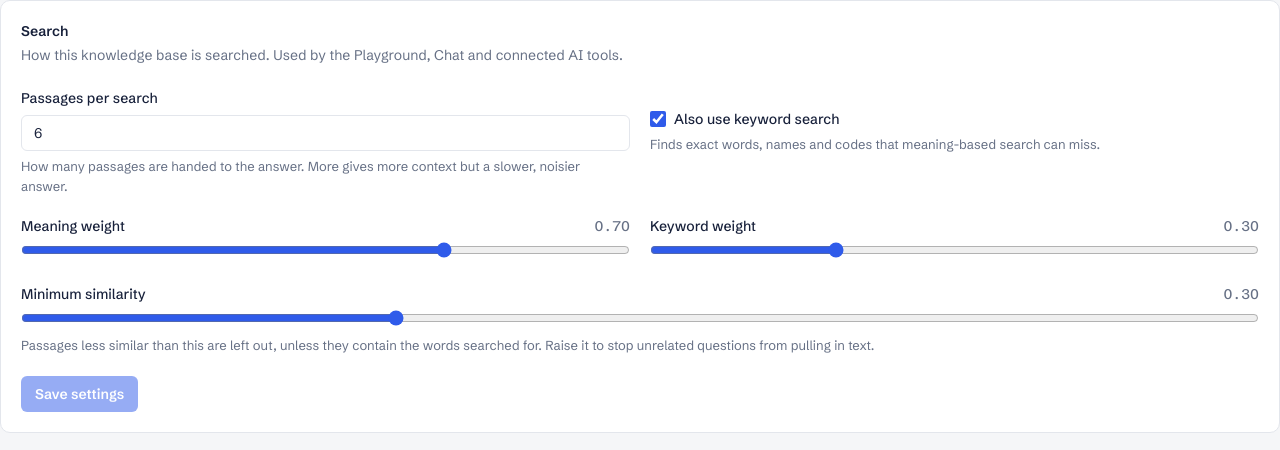
Scenario: RetrievalSection › saves the changed settings for this knowledge base
Expected: the number field labelled "Passages per search" is shown, [21,115,630,151]
Set the slider labelled "Minimum similarity 0.30" to "0.5": x=640, y=318 [21,310,1259,326]
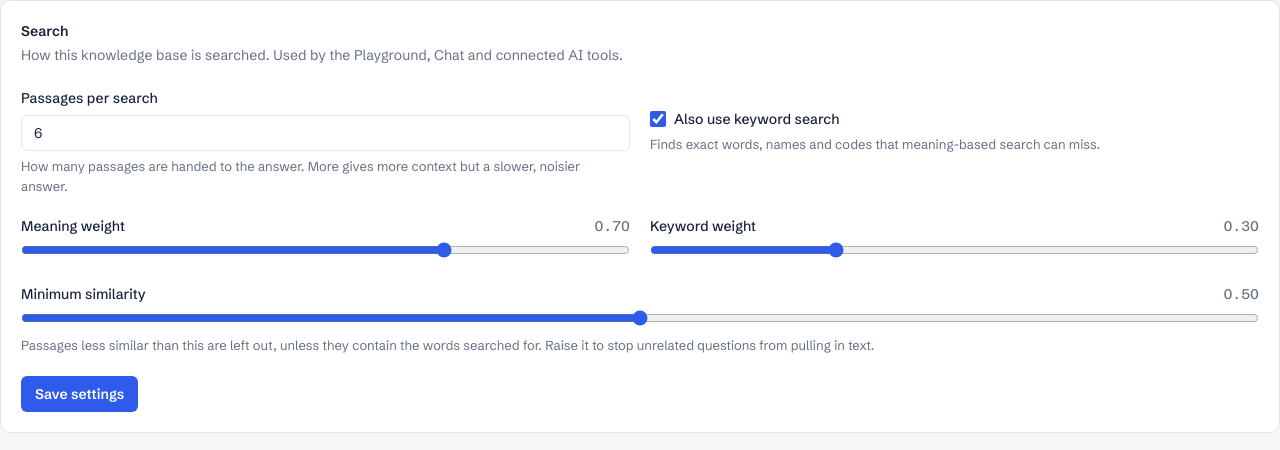
Click the button "Save settings": x=80, y=394 [21,376,138,412]
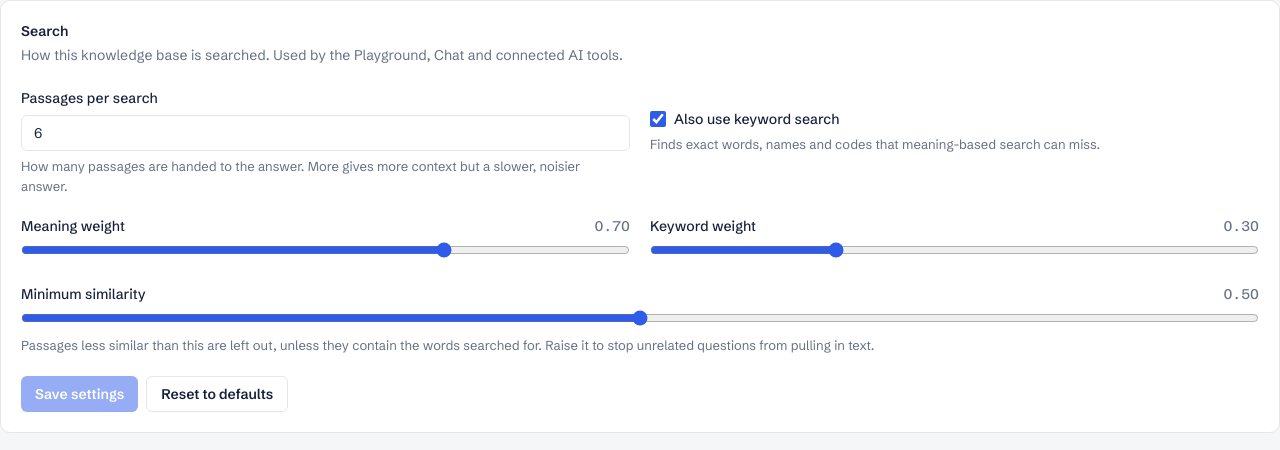
Result: the button "Save settings" is disabled at [21,376,138,412]
